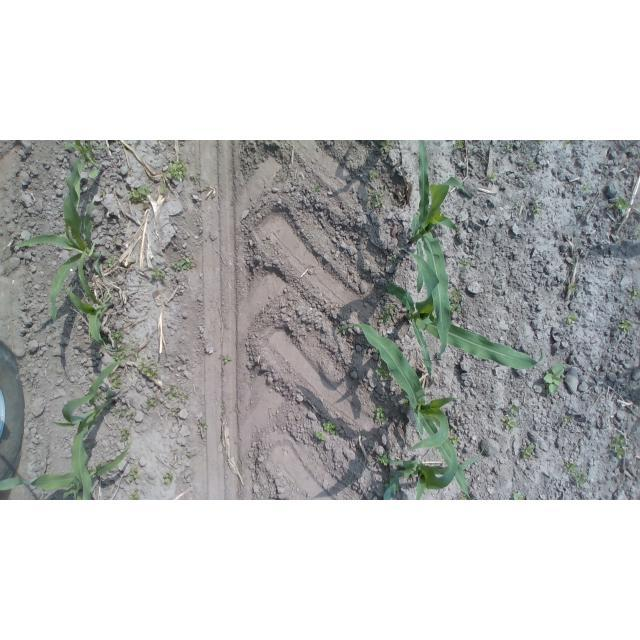Maize: (334, 321, 474, 500), (380, 247, 538, 379), (1, 146, 109, 333), (403, 141, 474, 362), (52, 356, 129, 500), (0, 443, 132, 494), (67, 248, 123, 352), (377, 448, 485, 500), (74, 140, 107, 180)
Weeds: (542, 363, 566, 397), (501, 401, 522, 431), (169, 256, 202, 272), (566, 462, 589, 484), (380, 302, 399, 326), (447, 287, 464, 313), (372, 403, 392, 425), (609, 435, 628, 458), (136, 359, 160, 377), (126, 185, 150, 203), (166, 162, 185, 181), (375, 364, 393, 383), (564, 311, 581, 330), (615, 197, 631, 216), (519, 443, 535, 462), (176, 447, 199, 460), (370, 189, 384, 209), (617, 316, 632, 334), (150, 265, 166, 281), (111, 343, 125, 361), (456, 257, 472, 272), (323, 419, 338, 435), (564, 282, 578, 299), (110, 371, 122, 390), (127, 466, 141, 482), (377, 452, 391, 468), (100, 330, 124, 339), (143, 395, 158, 409), (164, 384, 177, 400), (377, 141, 392, 154), (530, 203, 543, 218), (198, 418, 208, 437), (111, 406, 125, 419), (315, 430, 330, 442), (162, 470, 174, 485), (126, 411, 139, 424), (559, 412, 572, 425), (170, 403, 182, 417), (450, 433, 462, 447), (104, 257, 117, 269), (120, 427, 131, 441), (486, 172, 498, 184), (631, 286, 640, 302), (511, 490, 525, 500), (580, 182, 589, 196), (221, 353, 232, 364), (311, 183, 322, 194), (129, 489, 140, 500), (368, 169, 380, 179), (454, 141, 467, 150), (504, 143, 514, 153), (528, 161, 537, 172), (133, 348, 141, 358)
